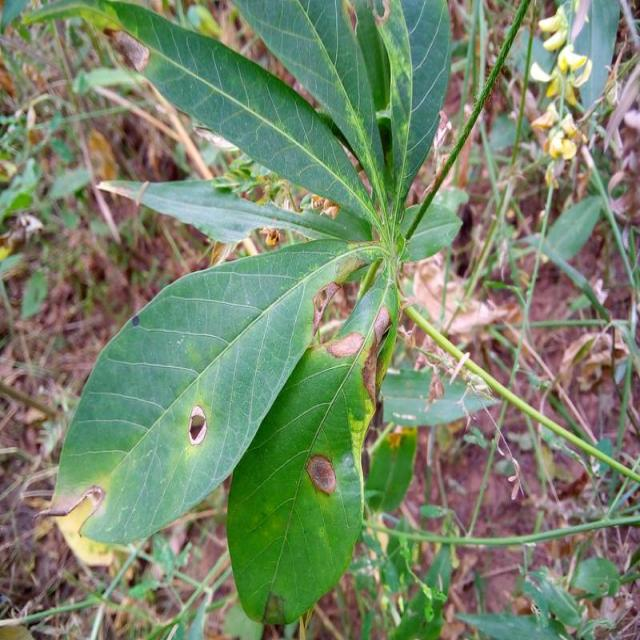cassava leaf: (49, 236, 381, 548), (225, 340, 375, 625)
